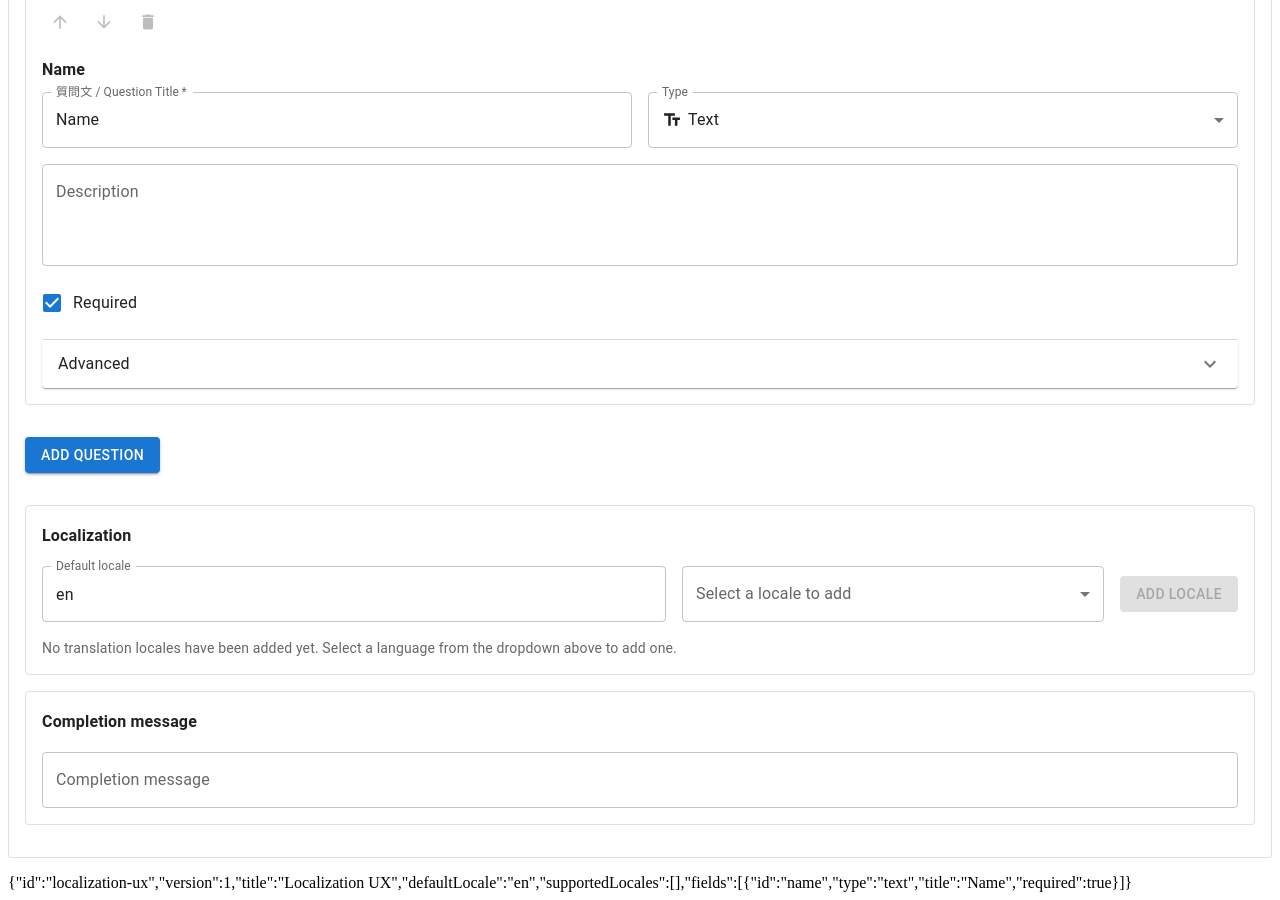
it: MUI localization UX › normalizes availableLocales, excludes registered locales, and disables the empty selector
The width and height of the screenshot is (1280, 900).
(page scrolled)
Click the dropdown named "Select a locale to add" at (893, 594), box [682,566,1104,622]
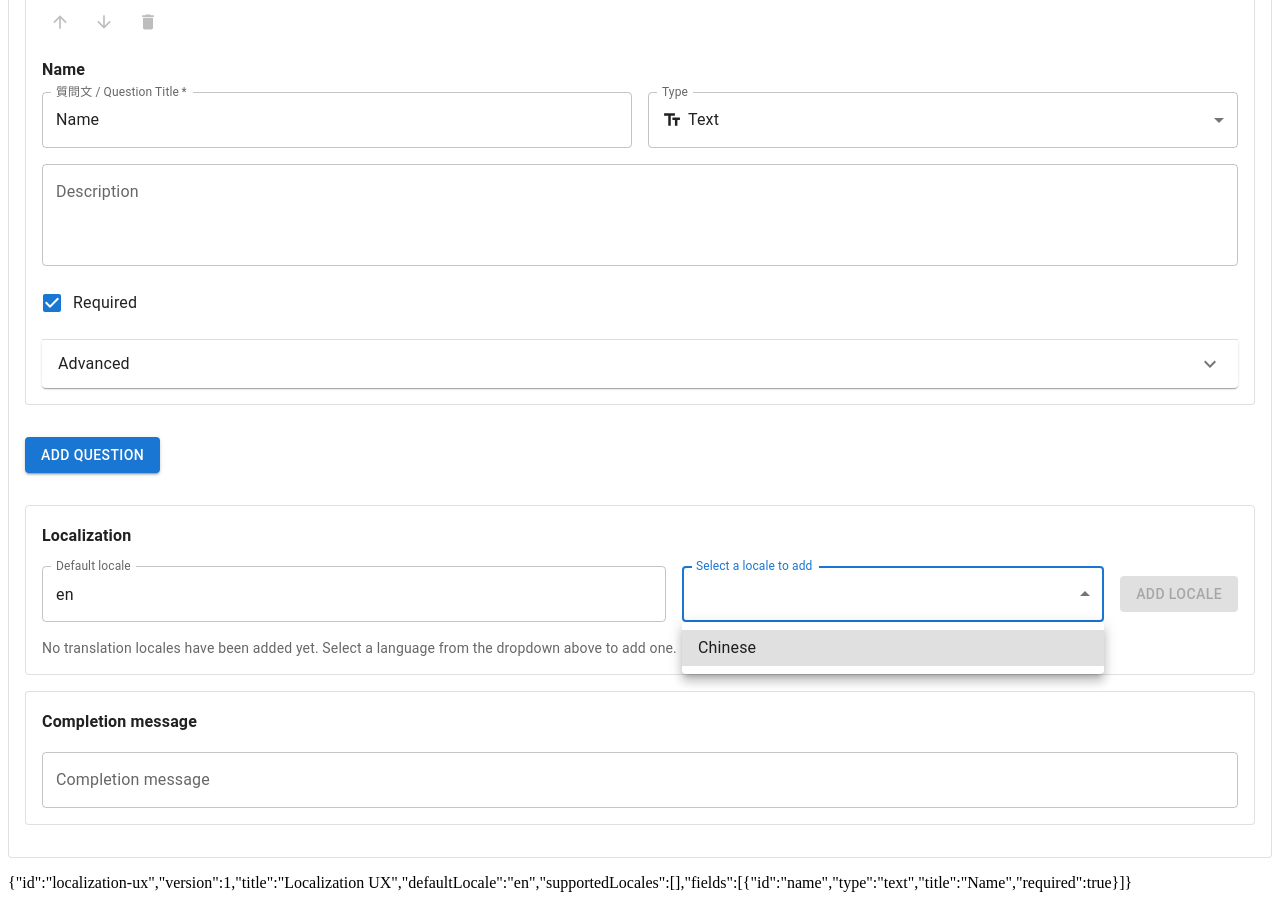
Now the option "Chinese" is shown
Click the option "Chinese" at (727, 648), box [682,630,1104,666]
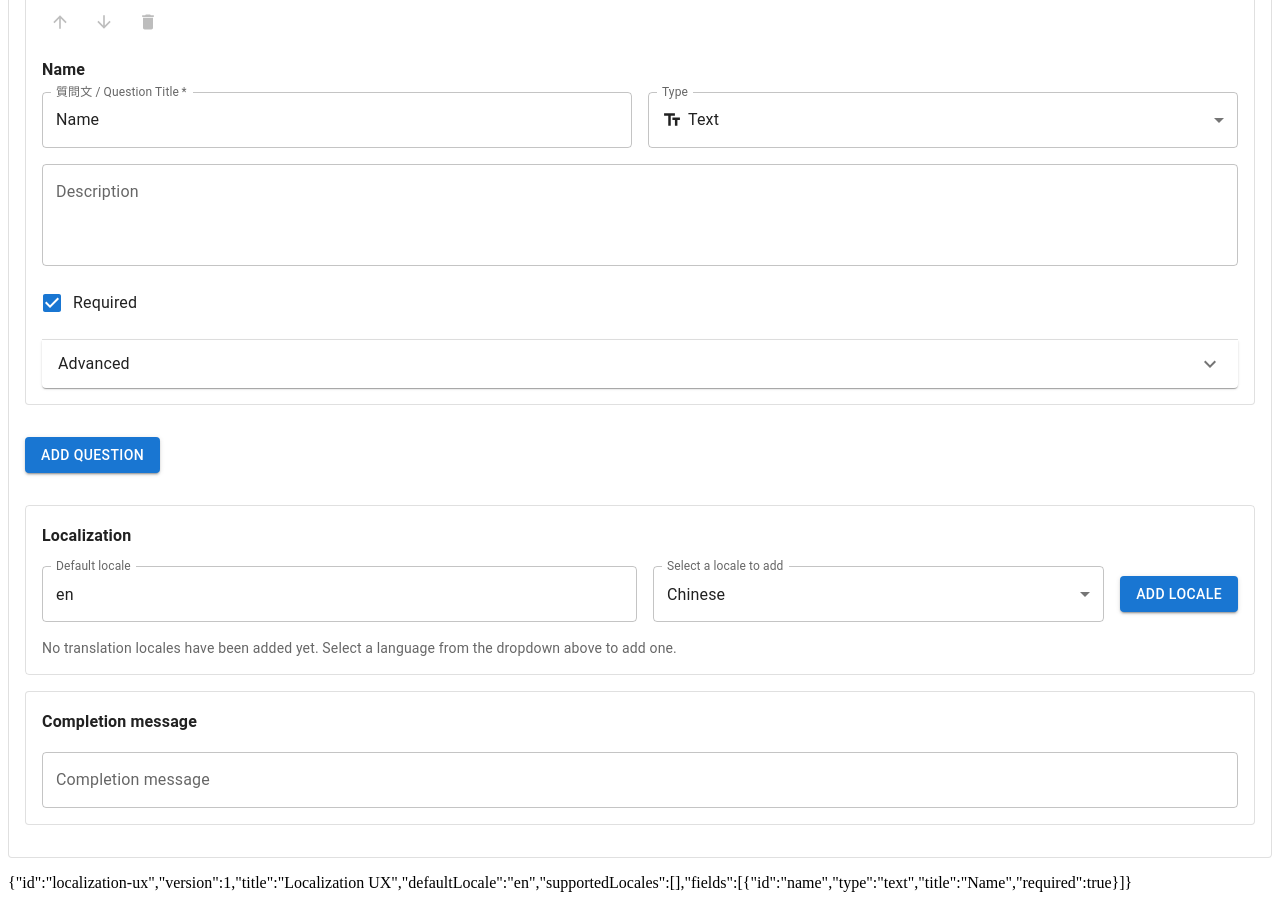
Click the button "Add locale" at (1179, 594), box [1120,576,1238,612]
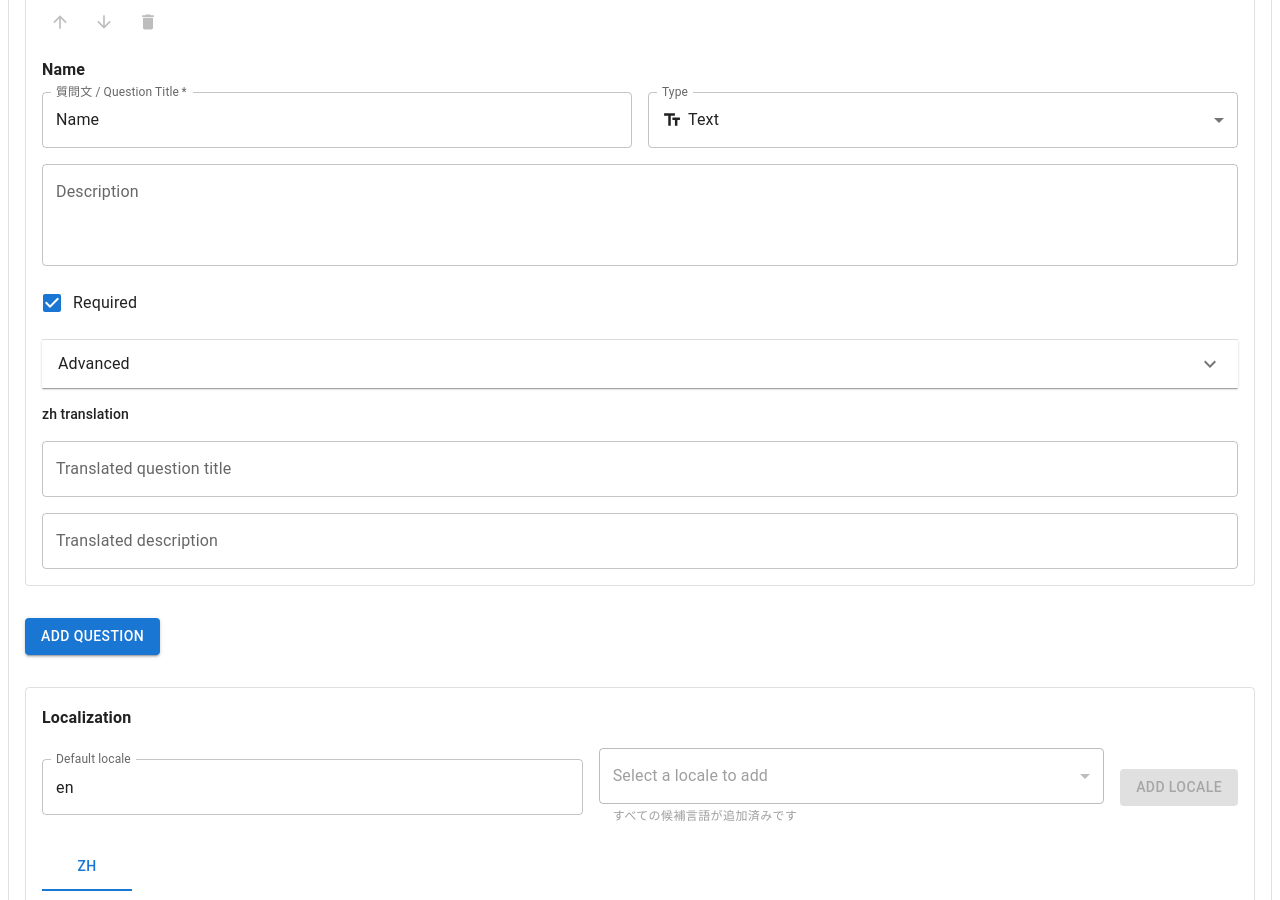
Now the text "すべての候補言語が追加済みです" is shown, box [613,809,797,823]
